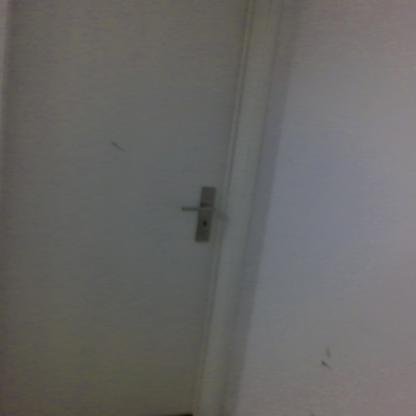door: (0, 0, 225, 415)
lever: (178, 202, 220, 218)
